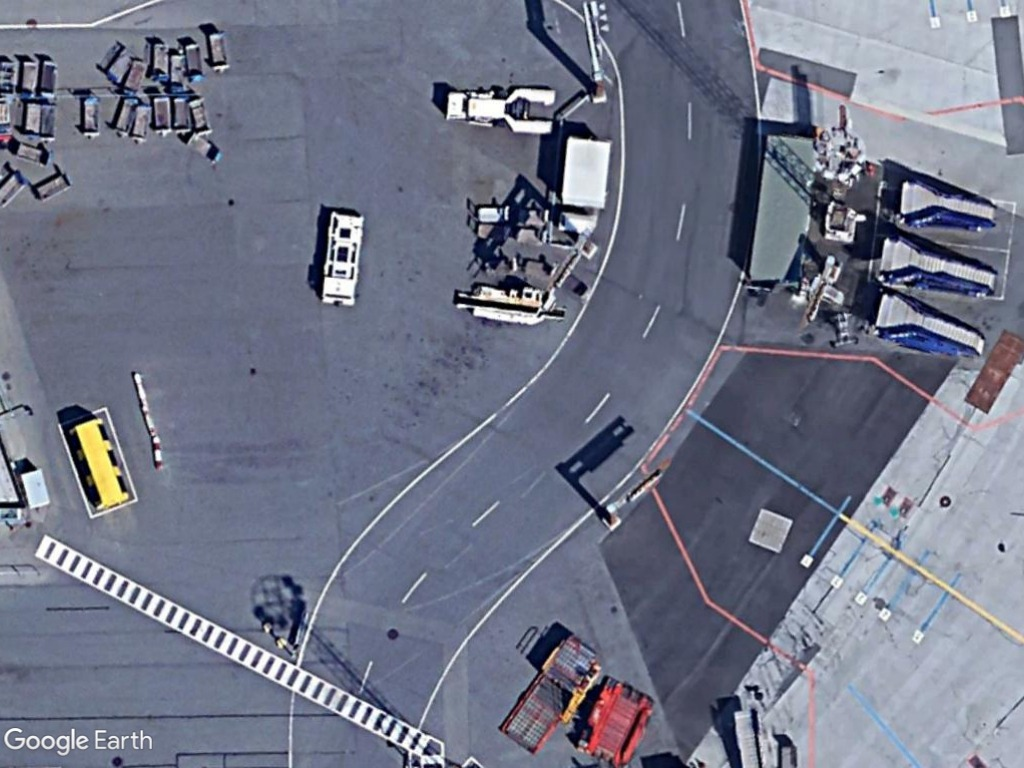pushbacktruck: (440, 75, 563, 138)
stairtruck: (870, 224, 1002, 303), (871, 288, 989, 361), (892, 166, 1003, 239)
